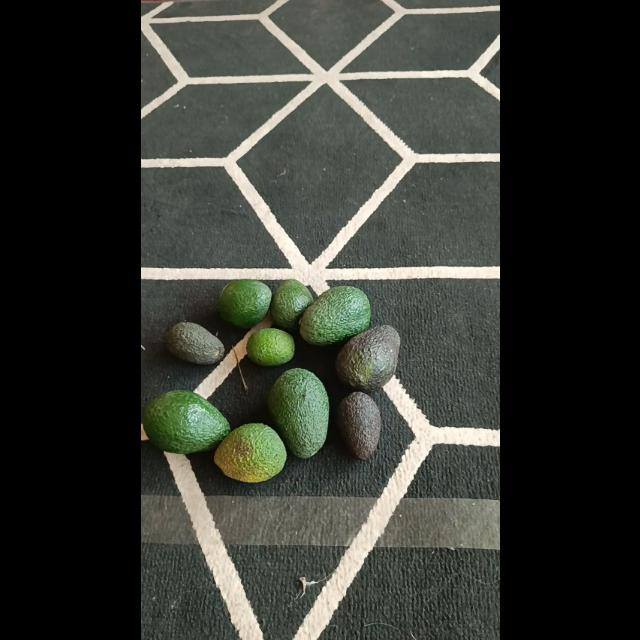Primera: (140, 390, 230, 454), (266, 366, 328, 456), (333, 326, 399, 392), (299, 286, 371, 344)
Segunda: (214, 422, 286, 482), (217, 278, 271, 328), (270, 279, 314, 329)
Tercera: (334, 392, 382, 458), (163, 321, 223, 365), (246, 328, 294, 367)
